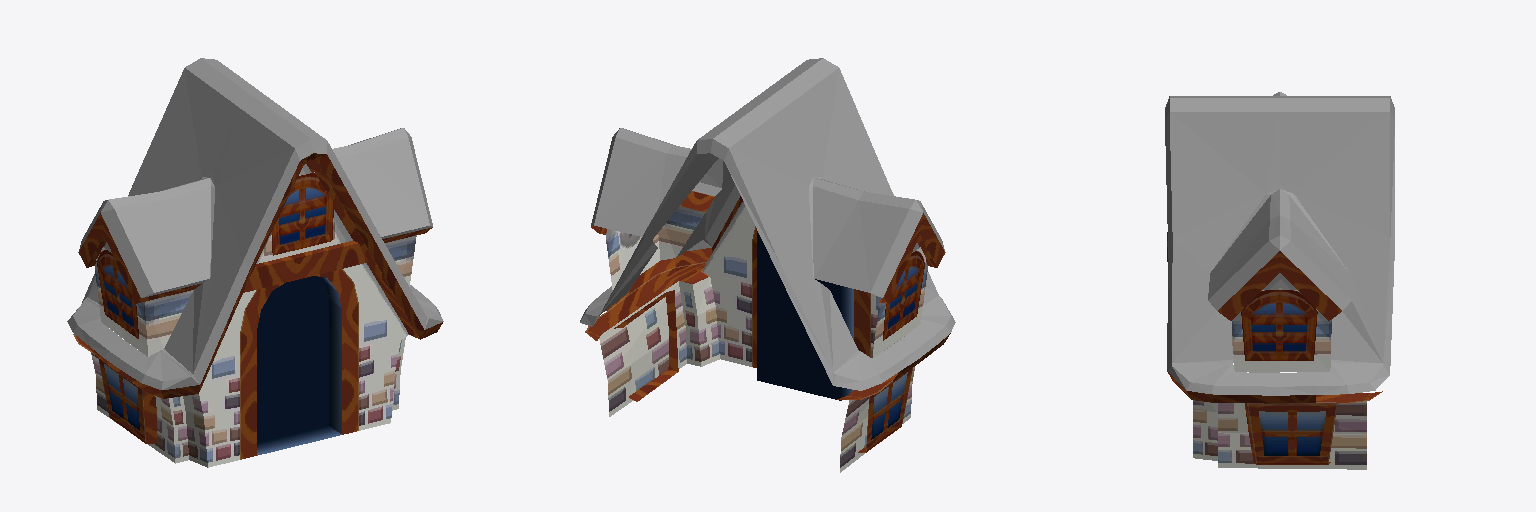
3 renders of one model, left to right at view 1: azimuth 30°, elevation 25°; view 2: azimuth 150°, elevation 25°; view 3: azimuth 270°, elevation 25°, orthographic.
Parts seen in each view (by area): view 1: vsn_mesh_0__mesh_0_, vsn_mesh_1__mesh_1_; view 2: vsn_mesh_1__mesh_1_, vsn_mesh_0__mesh_0_; view 3: vsn_mesh_1__mesh_1_, vsn_mesh_0__mesh_0_.
Part boxes in pixels (left/top/right/bottom): vsn_mesh_0__mesh_0_: left=73, top=153, right=442, bottom=467; vsn_mesh_1__mesh_1_: left=67, top=58, right=443, bottom=389; vsn_mesh_1__mesh_1_: left=580, top=58, right=955, bottom=390; vsn_mesh_0__mesh_0_: left=585, top=191, right=950, bottom=472; vsn_mesh_1__mesh_1_: left=1165, top=92, right=1394, bottom=395; vsn_mesh_0__mesh_0_: left=1167, top=232, right=1382, bottom=469.
Size of the model in its own units: 1.15 by 1.12 by 0.74.
Materials: 2 (1 with a texture image).